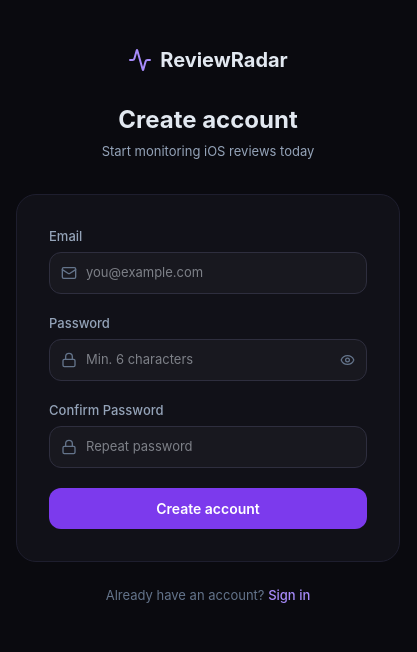
Test: Register › validates minimum password length before submitting
The width and height of the screenshot is (417, 652).
In the field labelled "Email": (208, 273) [49, 252, 367, 294], type "new@example.com"
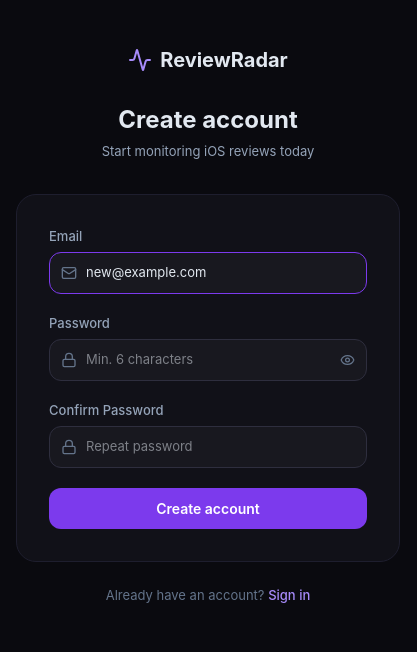
In the password field labelled "Password": (208, 360) [49, 339, 367, 380], type "short"
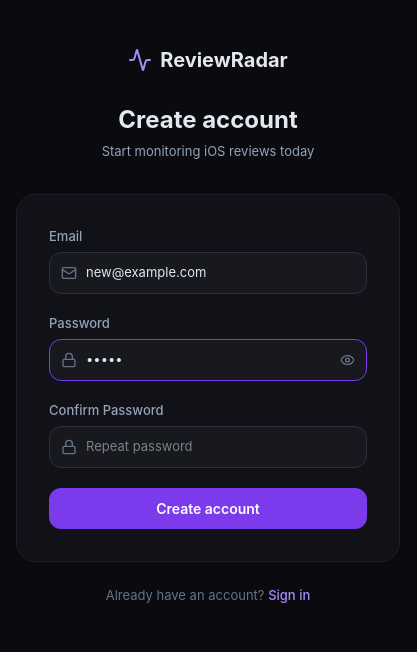
In the password field labelled "Confirm Password": (208, 447) [49, 426, 367, 468], type "short"
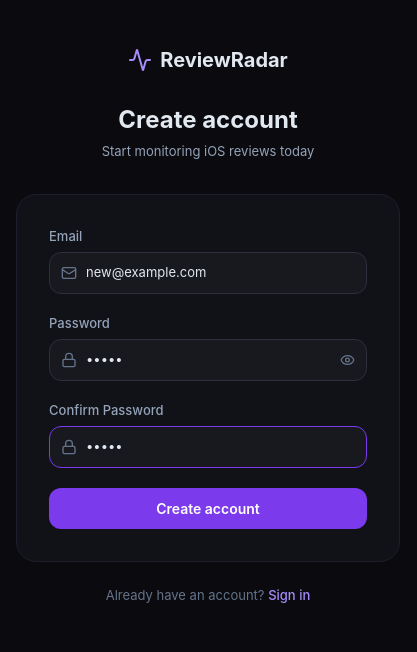
Click the button "Create account": (208, 508) [49, 488, 367, 528]
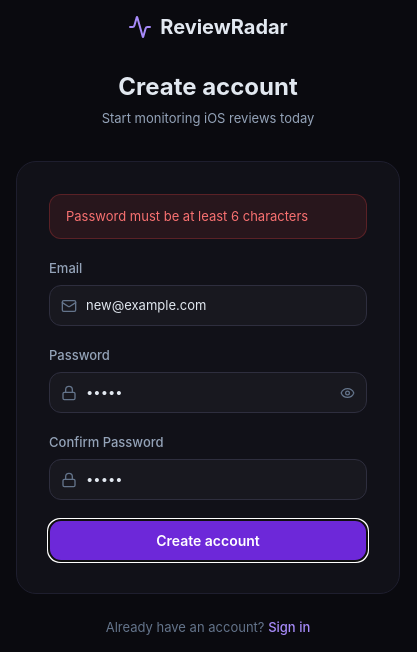
Expected: the text "Password must be at least 6 characters" is shown, [49, 194, 367, 239]
